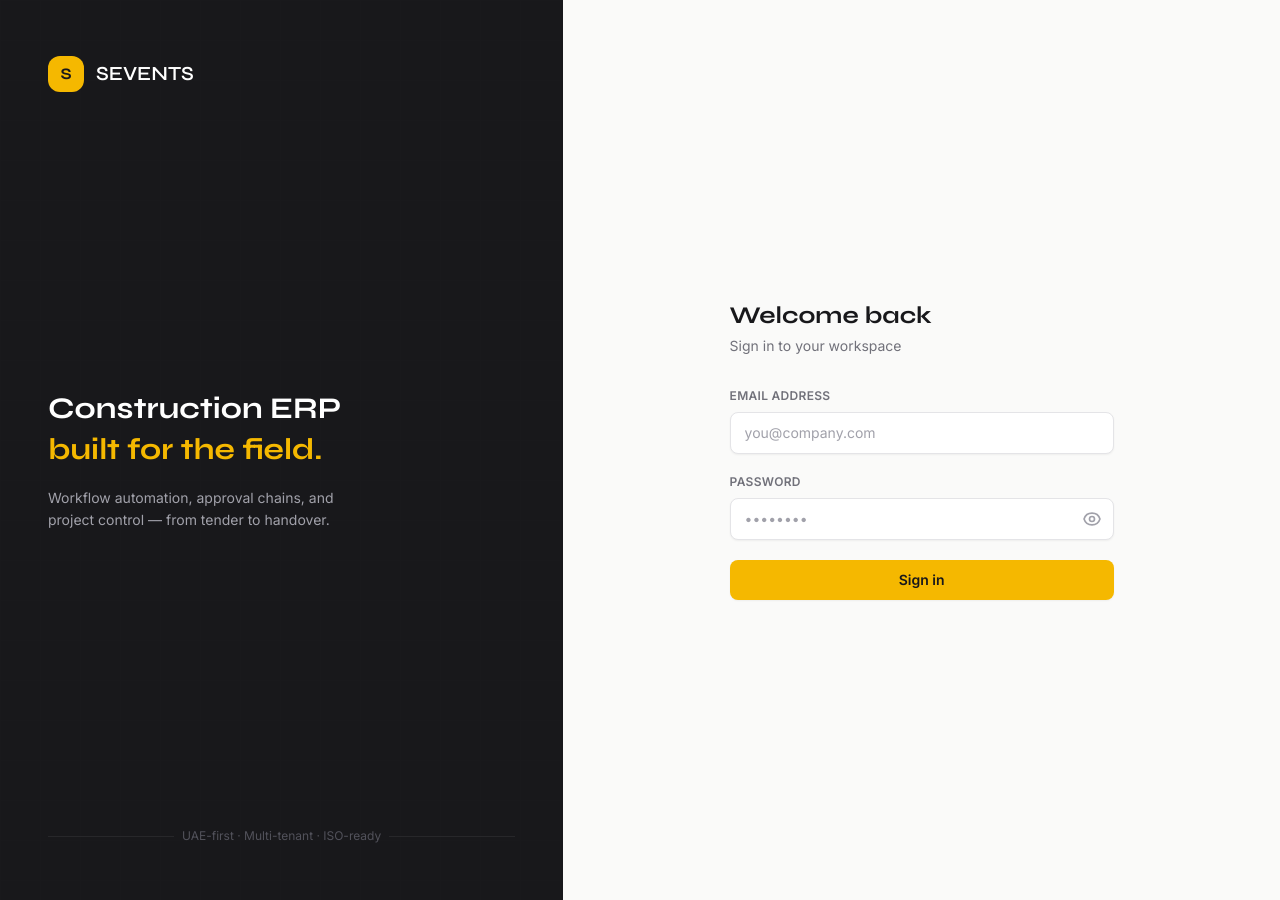
Test: LoginPage › submits email/password and shows the server's error message on failure
The width and height of the screenshot is (1280, 900).
Type "owner@example.com" into the field labelled "Email address" at (922, 433), box [730,412,1114,454]
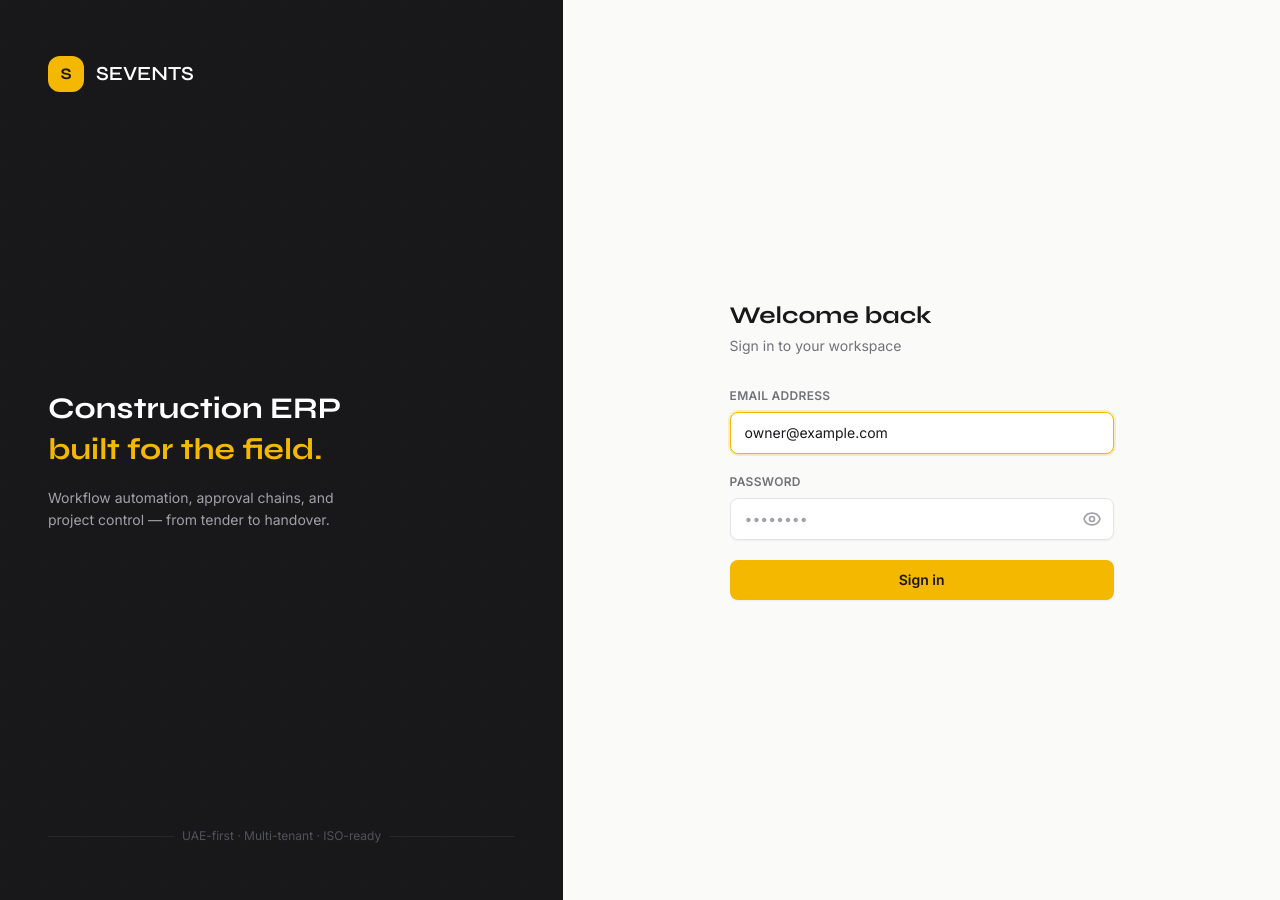
Type "wrong-password" into the password field labelled "Password" at (922, 519), box [730,498,1114,540]
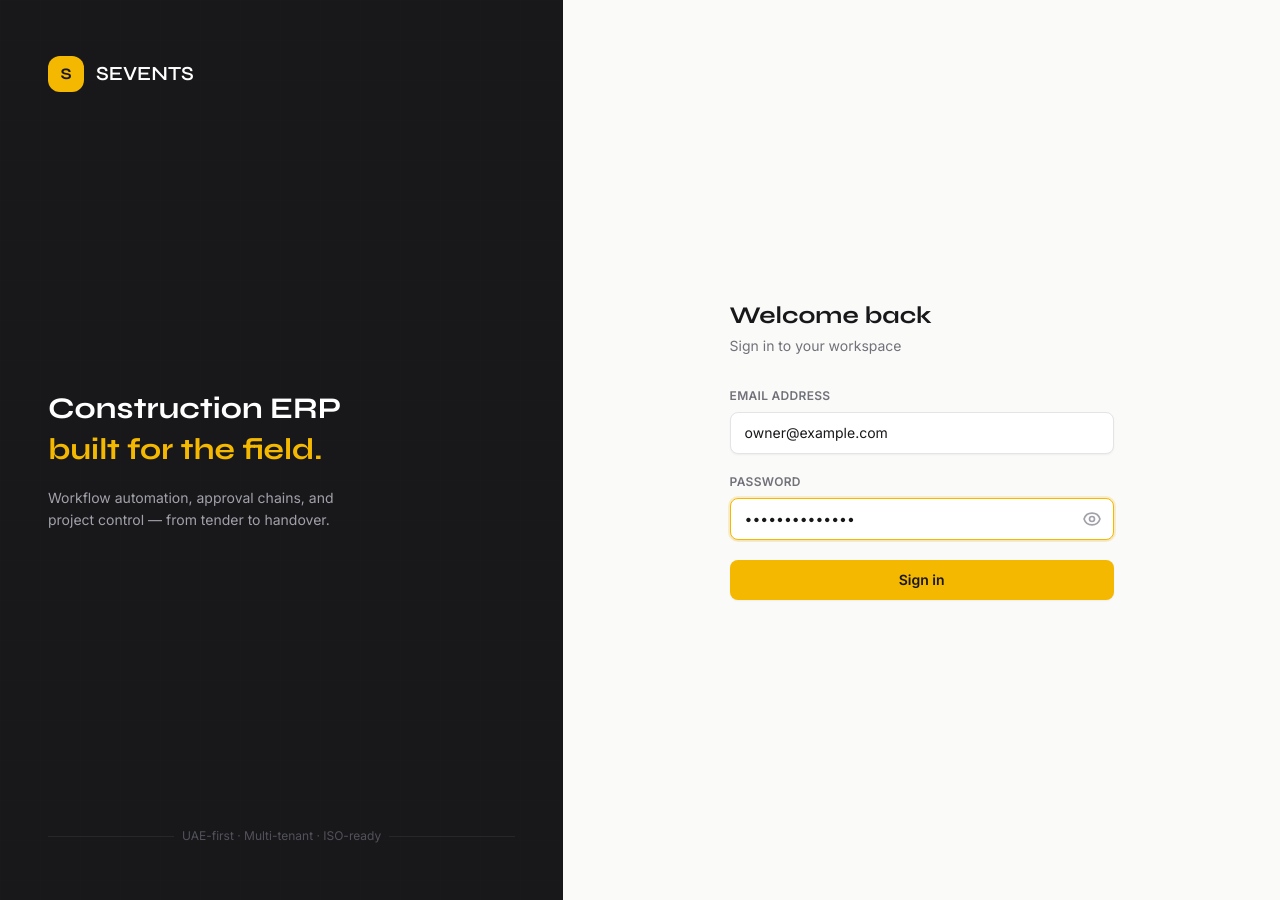
Click the button "Sign in" at (922, 580), box [730,560,1114,600]
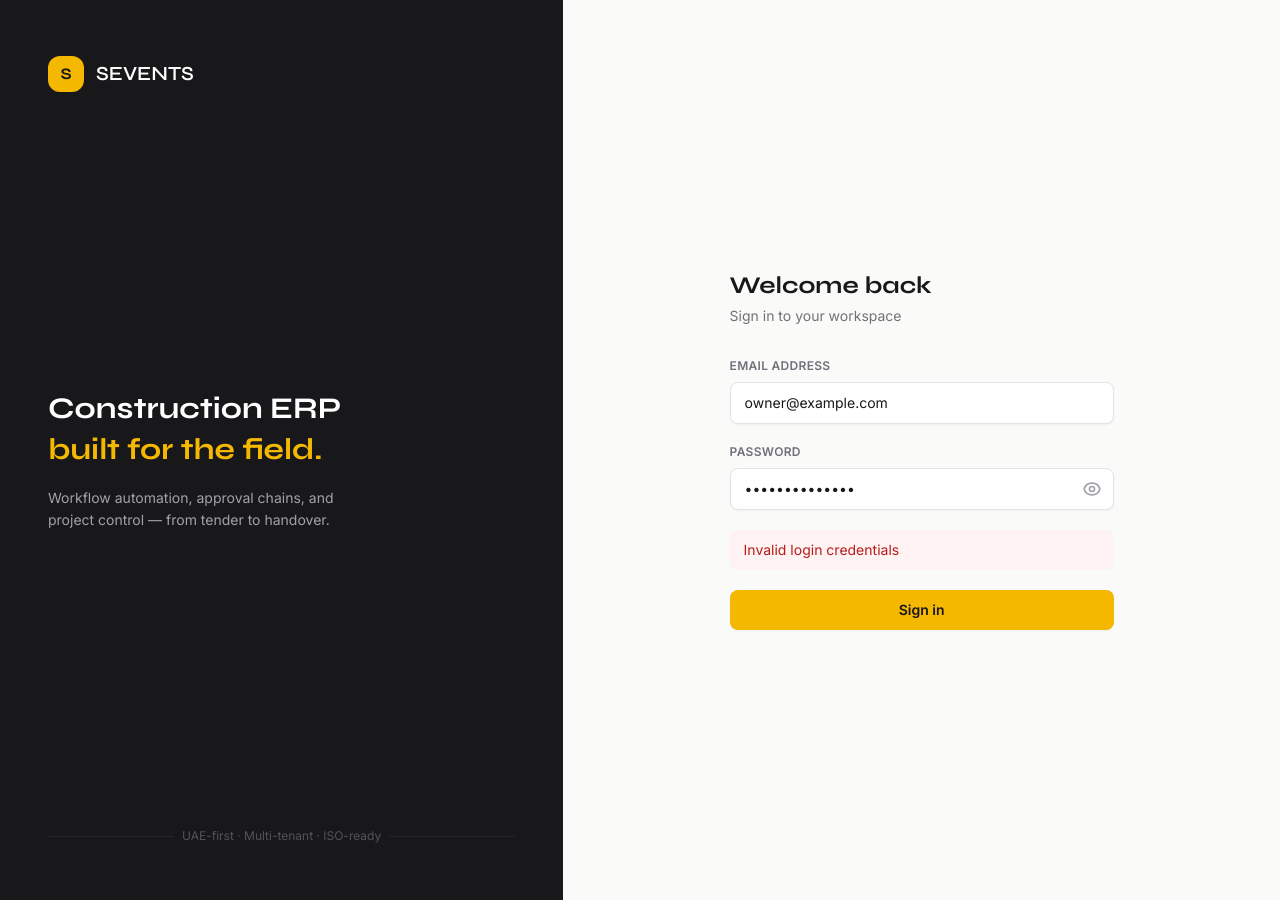
Check: the text "Invalid login credentials" is shown, box [730,530,1114,570]
